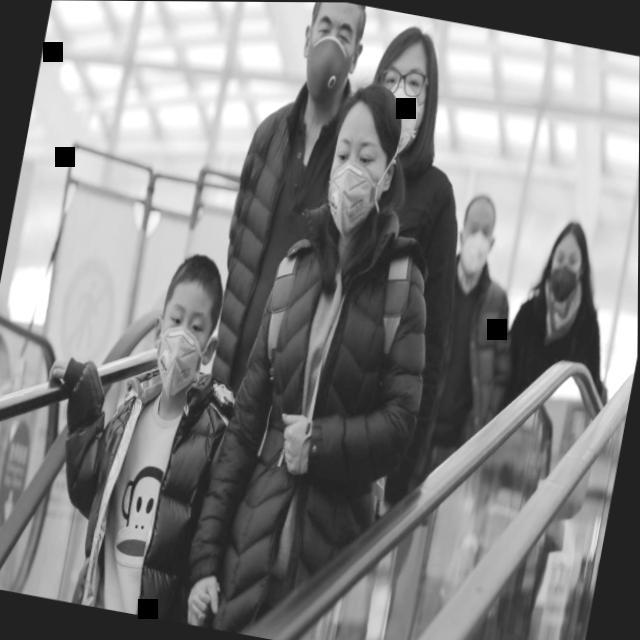Mask: (316, 73, 417, 246), (141, 240, 241, 407), (356, 15, 448, 164), (287, 2, 374, 116), (535, 206, 597, 306), (448, 183, 505, 277)
